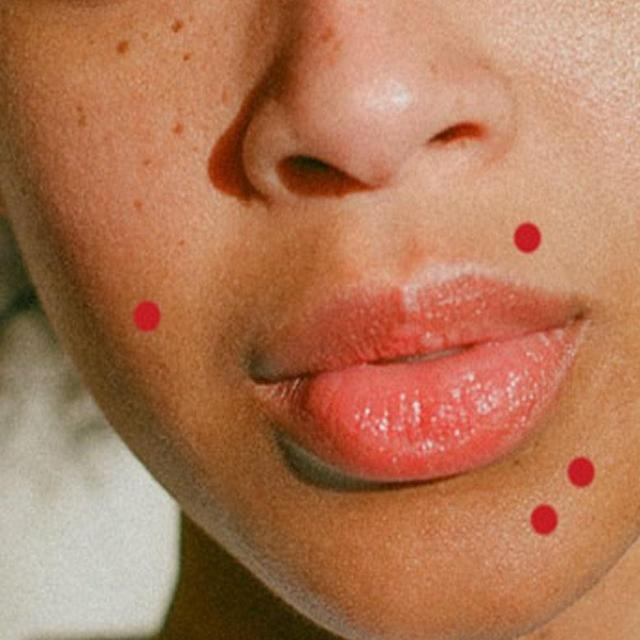Pimples: (130, 296, 164, 335), (565, 452, 599, 490), (526, 498, 556, 540), (511, 218, 544, 256), (71, 99, 100, 138), (168, 120, 190, 138), (166, 18, 184, 40), (114, 38, 132, 54)
